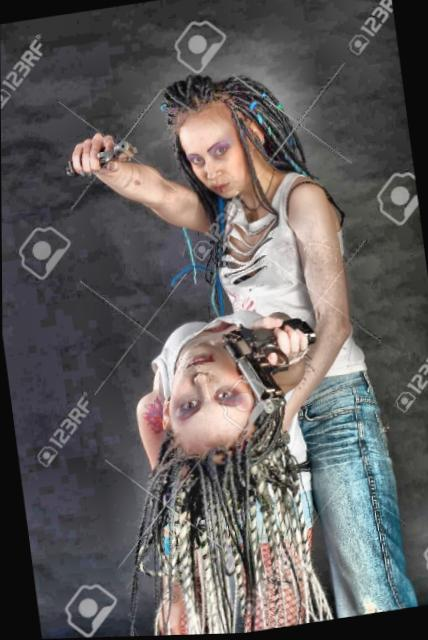pistol: (220, 307, 321, 429), (72, 134, 147, 176)
